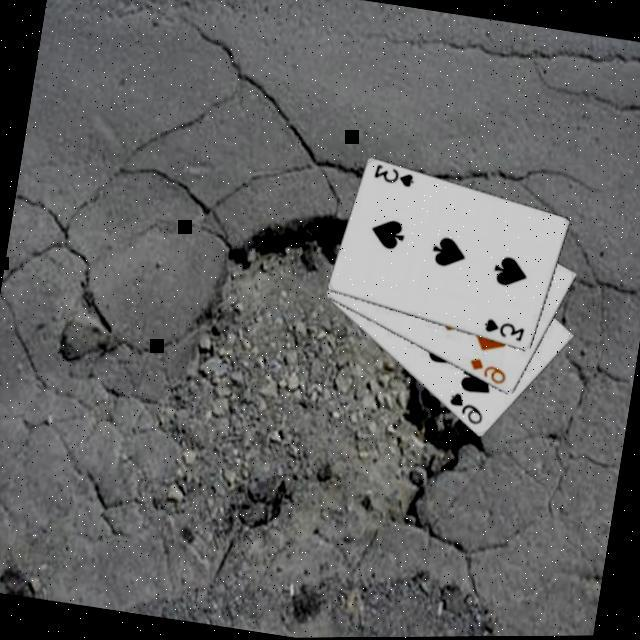3S: (372, 161, 421, 192), (482, 315, 530, 346)
9D: (466, 354, 514, 389)
9S: (445, 389, 492, 429)
